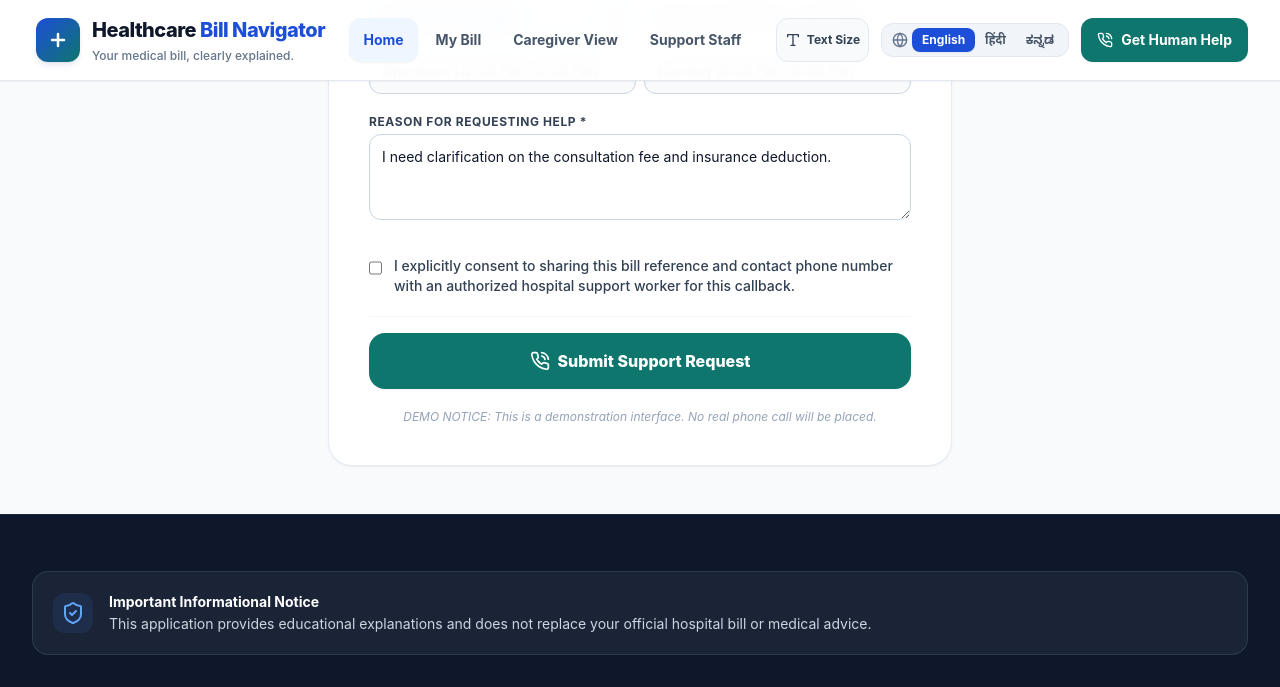
Scenario: HumanSupportPage › validates missing consent before submission
(page scrolled)
Click the button "Submit Support Request": click(640, 361) x1=369 y1=333 x2=911 y2=389
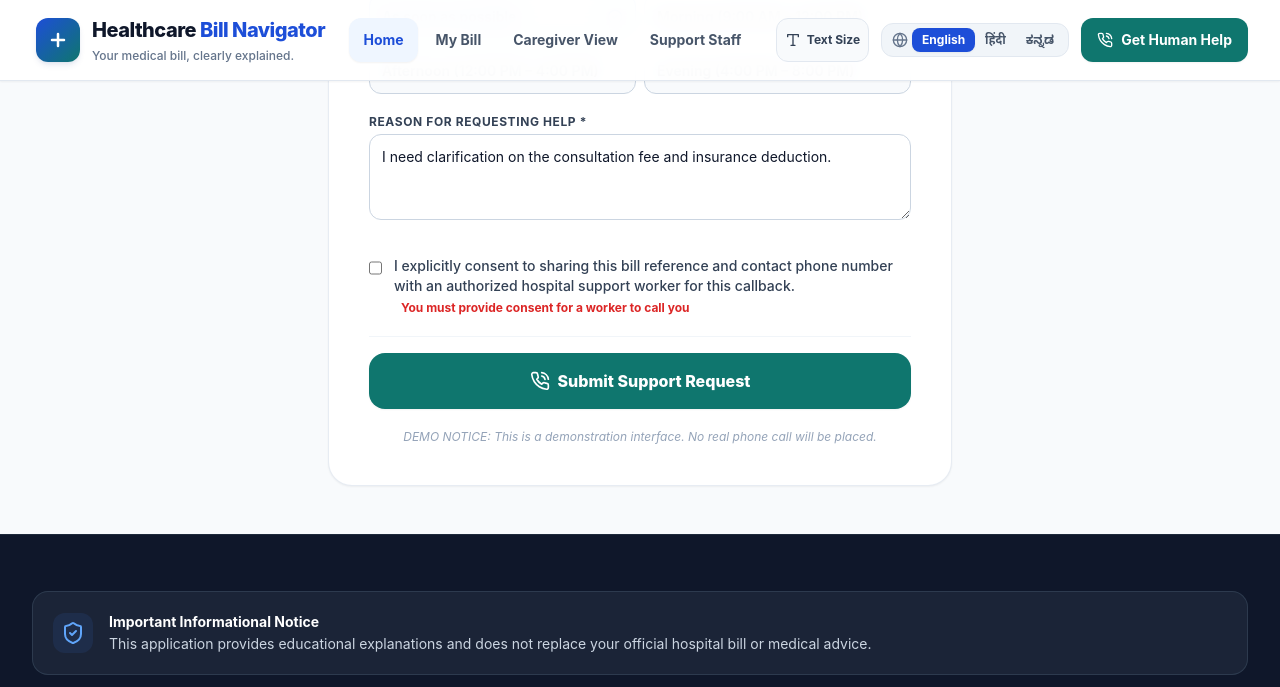
Result: the text "You must provide consent for a worker to call you" is shown at x1=401 y1=300 x2=690 y2=315
